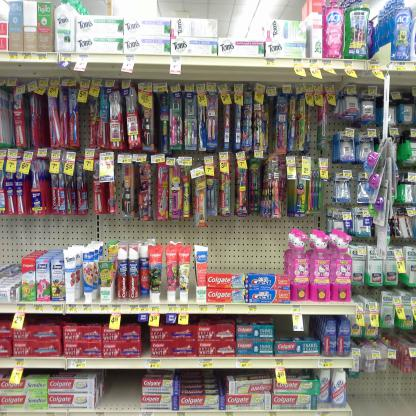Void: (205, 217, 286, 270), (90, 216, 194, 240), (351, 380, 412, 412), (23, 217, 85, 244), (104, 370, 142, 406), (0, 213, 20, 264), (220, 19, 264, 38), (184, 372, 224, 388), (274, 318, 292, 336), (140, 326, 150, 356)
